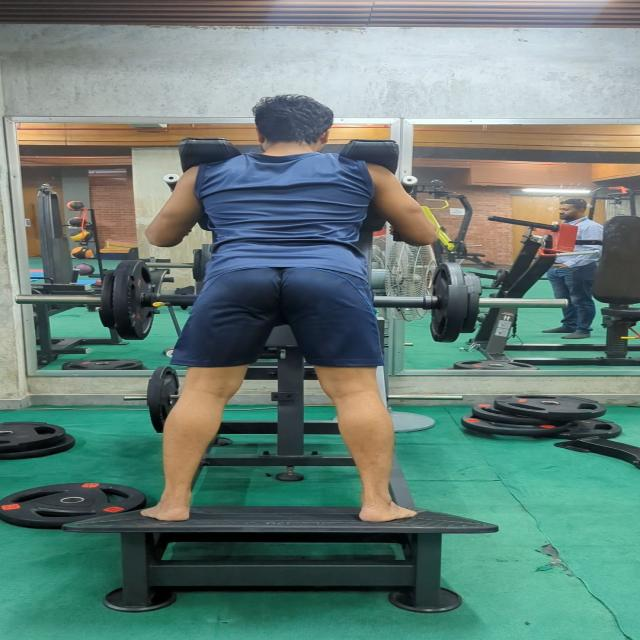Normal_SquatsWithBarbell: (105, 88, 458, 523)
